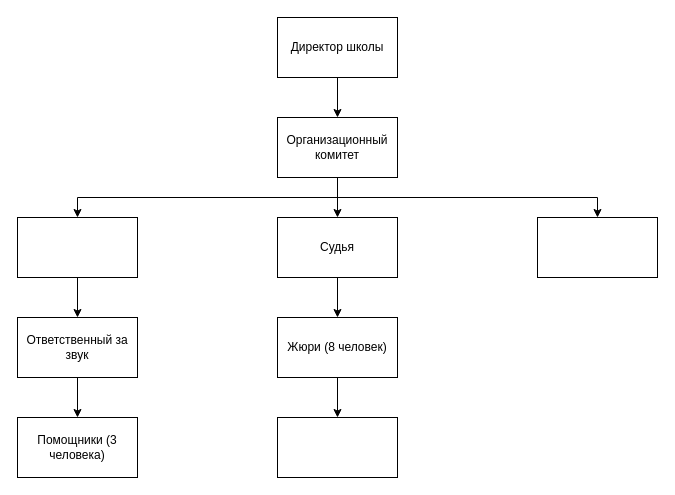
Some shapes in this 675 by 495 pixel diagram are drawn without their labels. Each missing label, with the box of its shape:
Ведущий: (16, 216, 138, 278)
Медицинский персонал (5 человек): (536, 216, 658, 278)
Участники: (276, 416, 398, 478)
